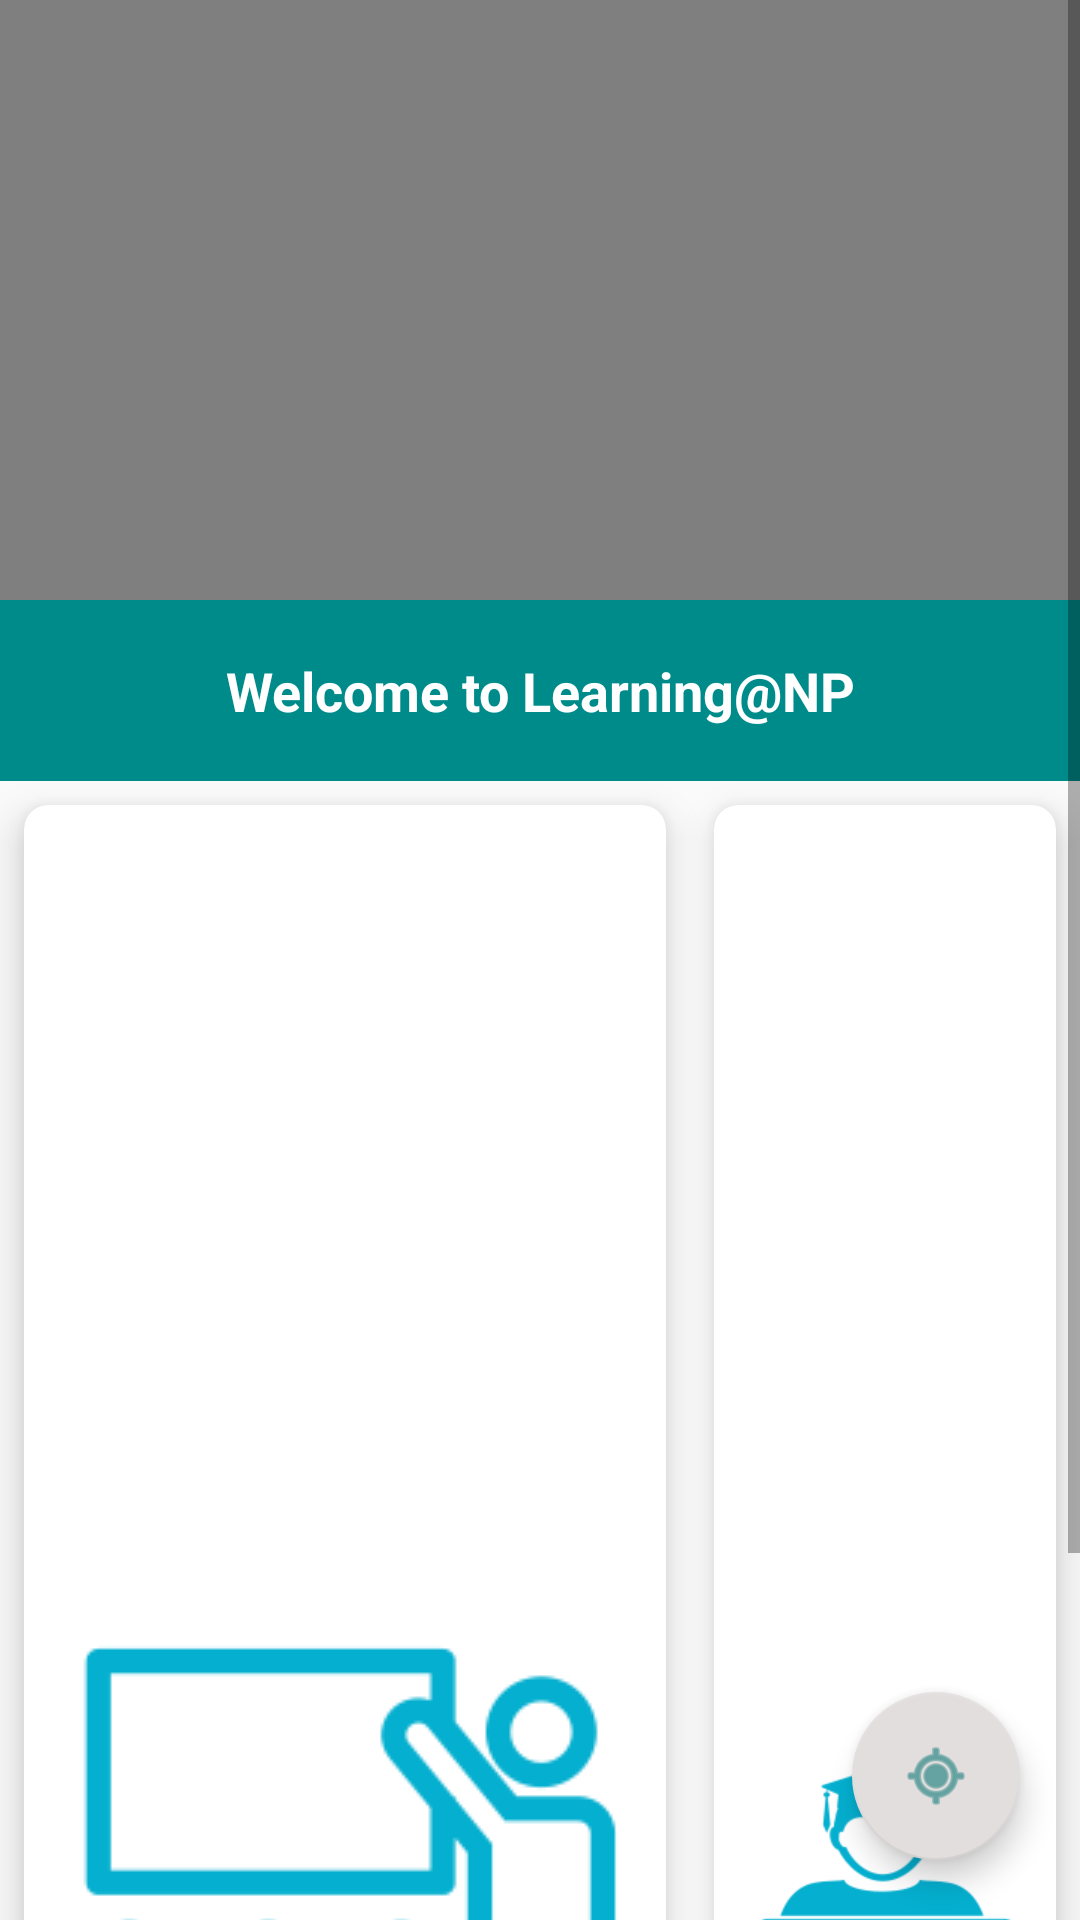

Icons on this 1080*1920 Android screen, each with the point to tap as point (x, y):
mylocation: point (936, 1776)
